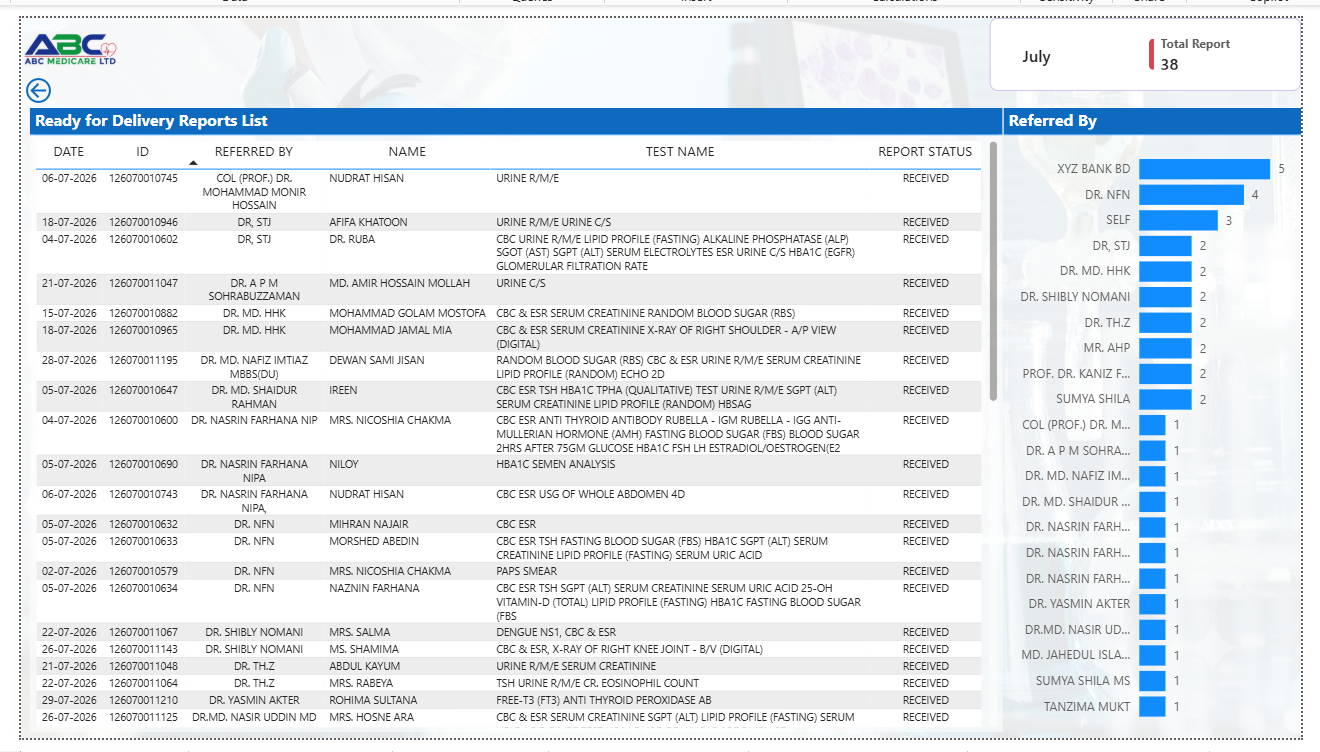

This screenshot's page, from the dashboard's own definition file:
{"tool":"powerbi","page":{"name":"Drill Through(Ready For Delivery)","canvas":[1280,720],"ordinal":6},"visuals":[{"type":"image","box":[0,0,98,59],"z":0},{"type":"tableEx","title":"Ready for Delivery Reports List","fields":{"Values":["MASTER SHEET.DATE","MASTER SHEET.ID","MASTER SHEET.REFERRED BY","MASTER SHEET.NAME","MASTER SHEET.TEST NAME","MASTER SHEET.REPORT DELIVERYSTATUS"]},"box":[9,90,973,623],"z":1000},{"type":"actionButton","box":[0,55,38,35],"z":2000},{"type":"clusteredBarChart","title":"Referred By","fields":{"Category":["MASTER SHEET.REFERRED BY"],"Y":["All Measure.Received Reports"]},"box":[982,90,298,623],"z":3000},{"type":"cardVisual","fields":{"Data":["Min(Calender_Table.Date.Variation.Date Hierarchy.Month)","CALCULATIONS.Received Reports"]},"box":[968.8,0,311,73],"z":4000}]}

Visuals, with their boxes on the page's 1280x720 design canvas (x1, y1, x2, y2). These are canvas units, not pixel positions in the 1320x752 screenshot, which may show the page scaled, cropped or inside an application window:
image: (0, 0, 98, 59)
"Ready for Delivery Reports List" tableEx: (9, 90, 982, 713)
actionButton: (0, 55, 38, 90)
"Referred By" clusteredBarChart: (982, 90, 1280, 713)
cardVisual - Min(Calender_Table.Date.Variation.Date Hierarchy.Month) x CALCULATIONS.Received Reports: (969, 0, 1280, 73)
